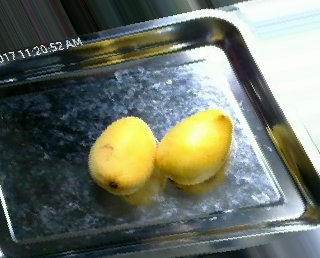Mango: (158, 110, 233, 184), (87, 116, 157, 193)
